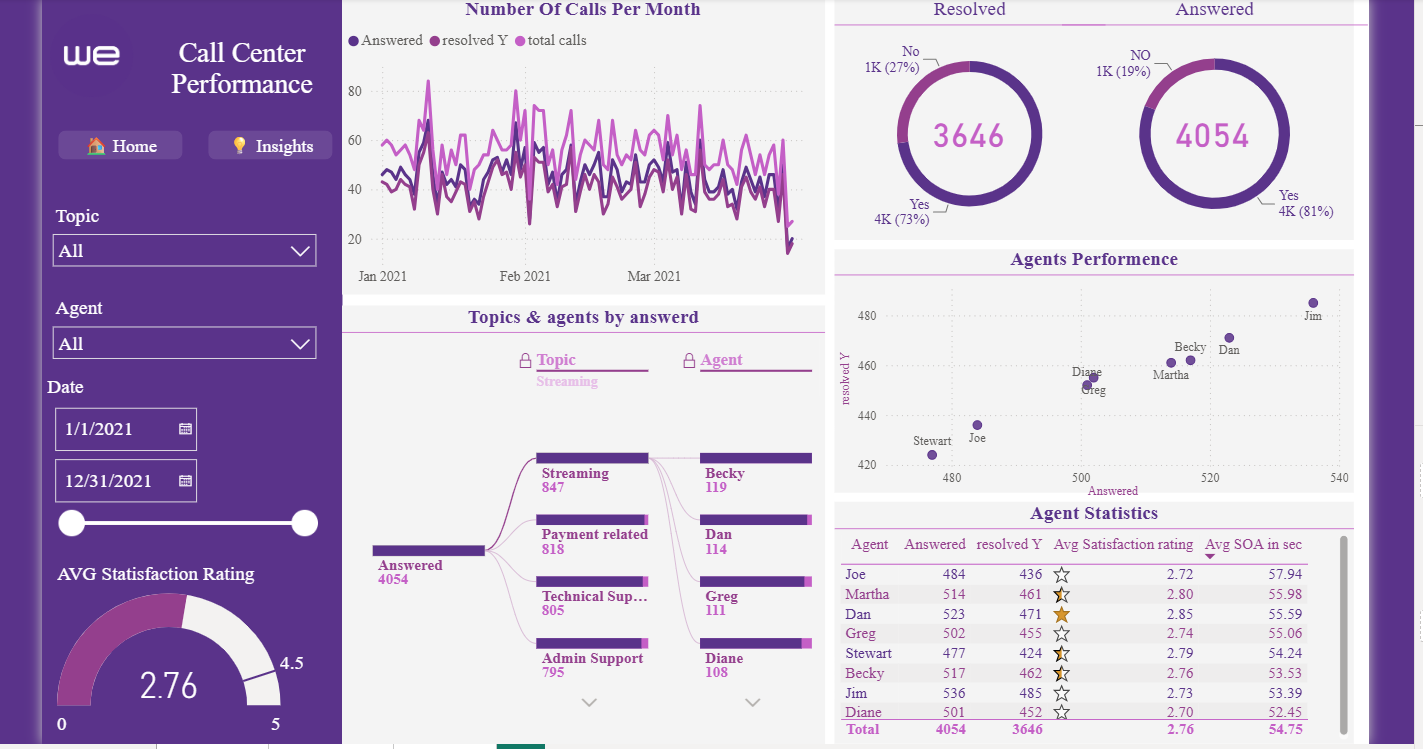

The dashboard page shown, as its layout file describes it:
{"tool":"powerbi","page":{"name":"Dashboard","canvas":[1280,720],"ordinal":1},"visuals":[{"type":"gauge","title":"AVG Statisfaction Rating","fields":{"MaxValue":["Max(call center.Satisfaction rating)2"],"MinValue":["Min(call center.Satisfaction rating)1"],"TargetValue":["measure Table.Target"],"Y":["Avg(call center.Satisfaction rating)"]},"box":[9.6,545.2,253.9,177],"z":0,"group":"g1"},{"type":"shape","box":[0,0,290,720],"z":1000},{"type":"slicer","fields":{"Values":["call center.Topic"]},"box":[0,193.9,274.4,71.4],"z":1000,"group":"g1"},{"type":"textbox","title":"Text box1","box":[98.7,27.7,219.9,103.9],"z":2000},{"type":"slicer","title":"Date","fields":{"Values":["Date.Date"]},"box":[0,364.1,274.4,157.8],"z":2000,"group":"g1"},{"type":"image","title":"Image1","box":[0,16,96,80],"z":3000},{"type":"textbox","box":[83.7,32,219.6,94.7],"z":3000,"group":"g1"},{"type":"group","id":"g1","title":"Group 1","box":[0,32,304,688],"z":4000},{"type":"slicer","fields":{"Values":["call center.Agent"]},"box":[0,283.1,274.4,71.4],"z":4000,"group":"g1"},{"type":"shape","box":[290,296.2,466.2,423.8],"z":10000},{"type":"shape","box":[765,486.2,501.2,233.8],"z":11000},{"type":"shape","box":[290,0,466.2,286.2],"z":12000},{"type":"shape","box":[765,242.5,501.2,235],"z":13000},{"type":"shape","box":[765,0,501.2,233.8],"z":14000},{"type":"tableEx","title":"Agent Statistics","fields":{"Values":["call center.Agent","measure Table.Answered","measure Table.resolved","Avg(call center.Satisfaction rating)","Avg(call center.Speed of answer in seconds)"]},"box":[765,486.2,501.2,233.8],"z":15000},{"type":"scatterChart","title":"Agents Performence ","fields":{"Category":["call center.Agent"],"X":["measure Table.Answered"],"Y":["measure Table.resolved"]},"box":[765,241.2,501.2,245],"z":16000},{"type":"lineChart","title":"Number Of Calls Per Month","fields":{"Category":["Date.Date.Variation.Date Hierarchy.Year","Date.Date.Variation.Date Hierarchy.Quarter","Date.Date.Variation.Date Hierarchy.Month","Date.Date.Variation.Date Hierarchy.Day"],"Y":["measure Table.Answered","measure Table.resolved","measure Table.total calls"]},"box":[290,0,465.7,285.7],"z":17000},{"type":"decompositionTreeVisual","title":"Topics & agents by answerd","fields":{"Analyze":["measure Table.Answered"],"ExplainBy":["call center.Topic","call center.Agent"]},"box":[290,296.2,466.2,423.8],"z":18000},{"type":"donutChart","title":"Answered ","fields":{"Category":["call center.Answered (Y/N)"],"Y":["CountNonNull(call center.Answered (Y/N))"]},"box":[985,0,295,233.8],"z":19000},{"type":"donutChart","title":" Resolved ","fields":{"Category":["call center.Resolved"],"Y":["CountNonNull(call center.Resolved)"]},"box":[765,0,261.2,233.8],"z":20000},{"type":"card","fields":{"Values":["measure Table.Answered"]},"box":[979.6,0,300.4,259.4],"z":21000},{"type":"card","fields":{"Values":["measure Table.resolved"]},"box":[744.4,0,300.4,259.4],"z":22000},{"type":"shape","title":"shape 1","box":[16,128,120,28],"z":23000},{"type":"shape","title":"shape 1","box":[160,128,120,28],"z":26000}]}

Visuals, with their boxes on the page's 1280x720 design canvas (x1, y1, x2, y2). These are canvas units, not pixel positions in the 1423x749 screenshot, which may show the page scaled, cropped or inside an application window:
"AVG Statisfaction Rating" gauge: {"left": 10, "top": 545, "right": 264, "bottom": 722}
shape: {"left": 0, "top": 0, "right": 290, "bottom": 720}
slicer - call center.Topic: {"left": 0, "top": 194, "right": 274, "bottom": 265}
"Text box1" textbox: {"left": 99, "top": 28, "right": 319, "bottom": 132}
"Date" slicer: {"left": 0, "top": 364, "right": 274, "bottom": 522}
"Image1" image: {"left": 0, "top": 16, "right": 96, "bottom": 96}
textbox: {"left": 84, "top": 32, "right": 303, "bottom": 127}
"Group 1" group: {"left": 0, "top": 32, "right": 304, "bottom": 720}
slicer - call center.Agent: {"left": 0, "top": 283, "right": 274, "bottom": 354}
shape: {"left": 290, "top": 296, "right": 756, "bottom": 720}
shape: {"left": 765, "top": 486, "right": 1266, "bottom": 720}
shape: {"left": 290, "top": 0, "right": 756, "bottom": 286}
shape: {"left": 765, "top": 242, "right": 1266, "bottom": 478}
shape: {"left": 765, "top": 0, "right": 1266, "bottom": 234}
"Agent Statistics" tableEx: {"left": 765, "top": 486, "right": 1266, "bottom": 720}
"Agents Performence " scatterChart: {"left": 765, "top": 241, "right": 1266, "bottom": 486}
"Number Of Calls Per Month" lineChart: {"left": 290, "top": 0, "right": 756, "bottom": 286}
"Topics & agents by answerd" decompositionTreeVisual: {"left": 290, "top": 296, "right": 756, "bottom": 720}
"Answered " donutChart: {"left": 985, "top": 0, "right": 1280, "bottom": 234}
" Resolved " donutChart: {"left": 765, "top": 0, "right": 1026, "bottom": 234}
card - measure Table.Answered: {"left": 980, "top": 0, "right": 1280, "bottom": 259}
card - measure Table.resolved: {"left": 744, "top": 0, "right": 1045, "bottom": 259}
"shape 1" shape: {"left": 16, "top": 128, "right": 136, "bottom": 156}
"shape 1" shape: {"left": 160, "top": 128, "right": 280, "bottom": 156}
